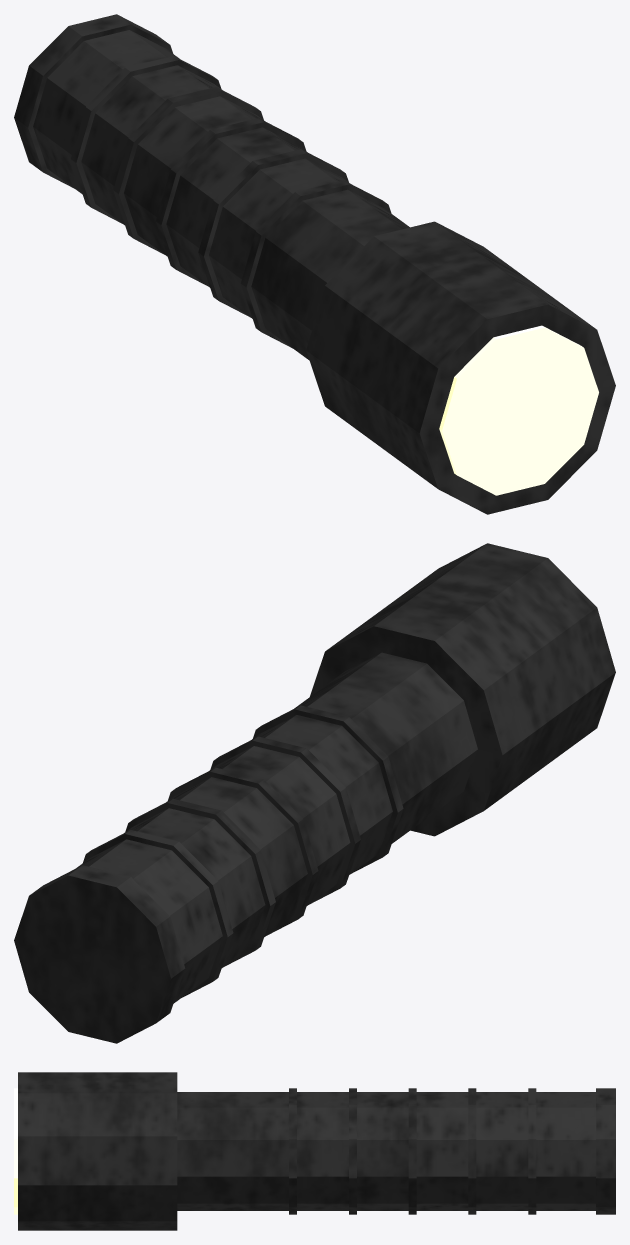
Rendered from den_pin_lod1.glb.
3 renders of one model, top to bottom at view 1: azimuth 30°, elevation 25°; view 2: azimuth 150°, elevation 25°; view 3: azimuth 270°, elevation 25°, orthographic. The views are drawn at different scales.
Visible parts, largest first — view 1: grip, lens; view 2: grip; view 3: grip, lens.
Part boxes in pixels (box(x1,y1,x2,y2)): grip: box(14, 14, 615, 514); lens: box(439, 325, 598, 495); grip: box(14, 543, 615, 1043); grip: box(18, 1072, 615, 1230); lens: box(14, 1088, 17, 1214).
Bounding box in the file's own units: 0.04 × 0.038 × 0.151.
Materials: 2 (1 with a texture image).
